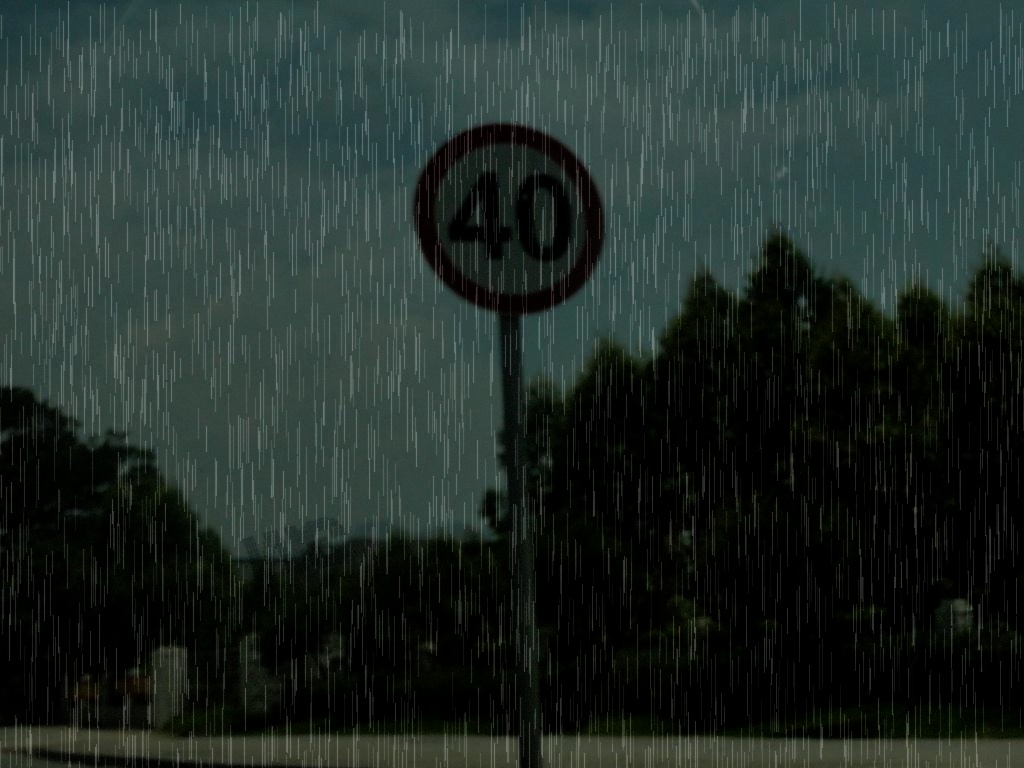Prohibitory Signs: (411, 120, 611, 317)
